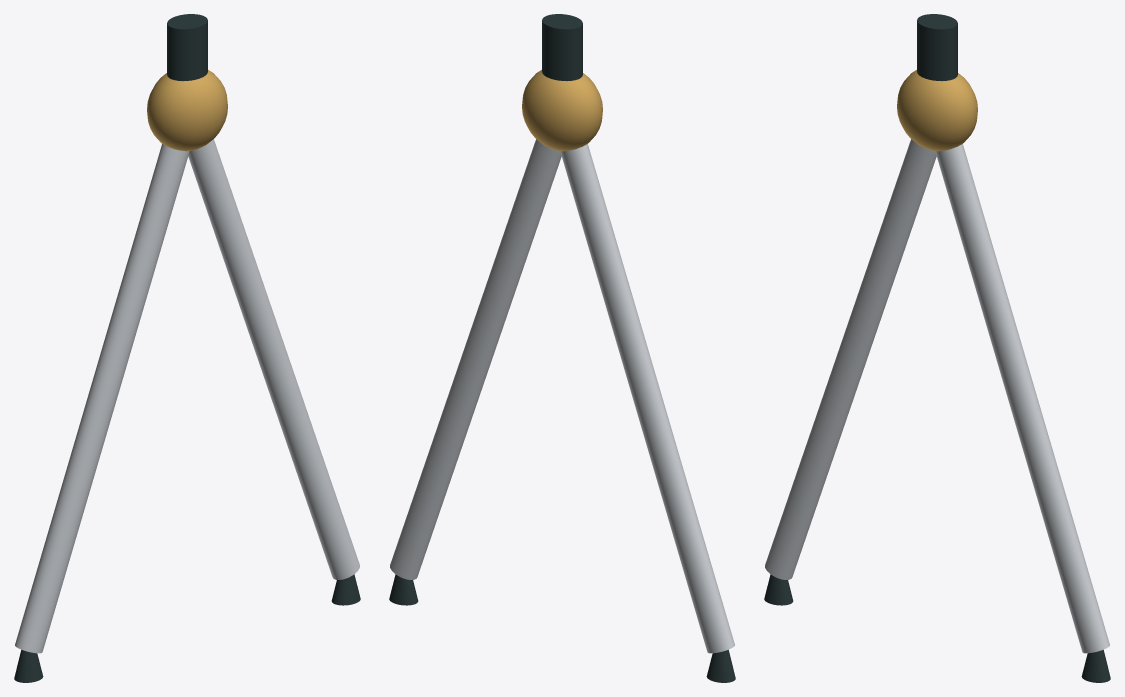
Rendered from wp-compas-de-demonstration.glb.
3 renders of one model, left to right at view 1: azimuth 30°, elevation 25°; view 2: azimuth 150°, elevation 25°; view 3: azimuth 330°, elevation 25°, orthographic.
Visible parts, largest first — view 1: wp-compas-de-demonstration; view 2: wp-compas-de-demonstration; view 3: wp-compas-de-demonstration.
Part boxes in pixels (bbox=[...]): wp-compas-de-demonstration: bbox=[14, 14, 360, 682]; wp-compas-de-demonstration: bbox=[389, 14, 735, 682]; wp-compas-de-demonstration: bbox=[764, 14, 1110, 682].
Bounding box in the file's own units: 0.35 × 0.6 × 0.06.
